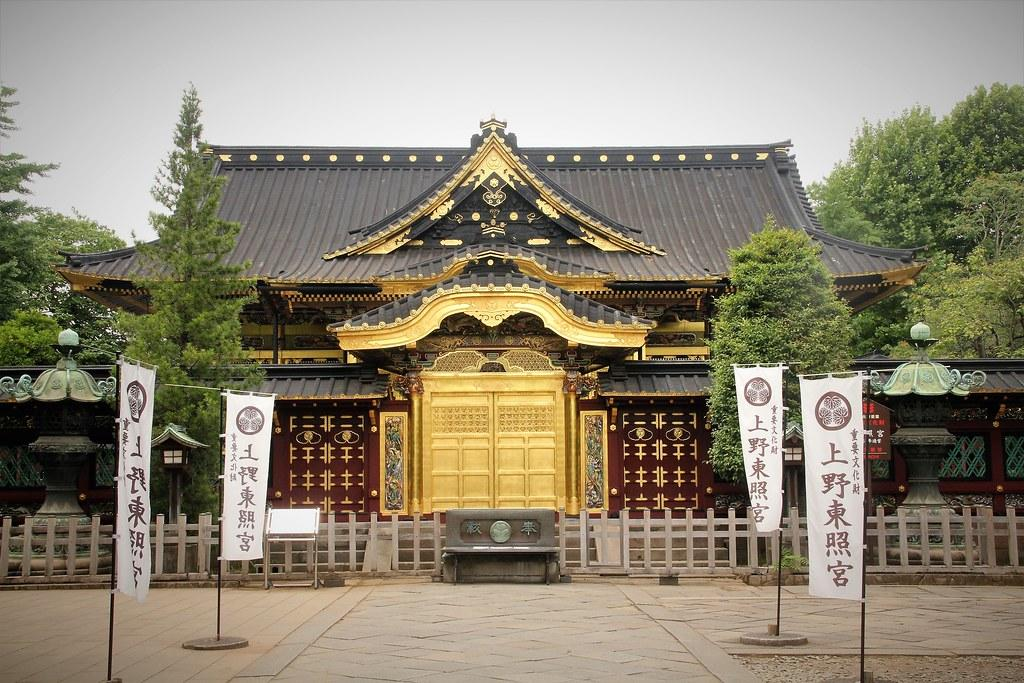temple: (50, 111, 934, 582)
